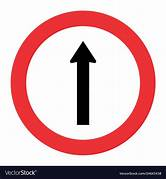forward: (10, 10, 155, 155)
